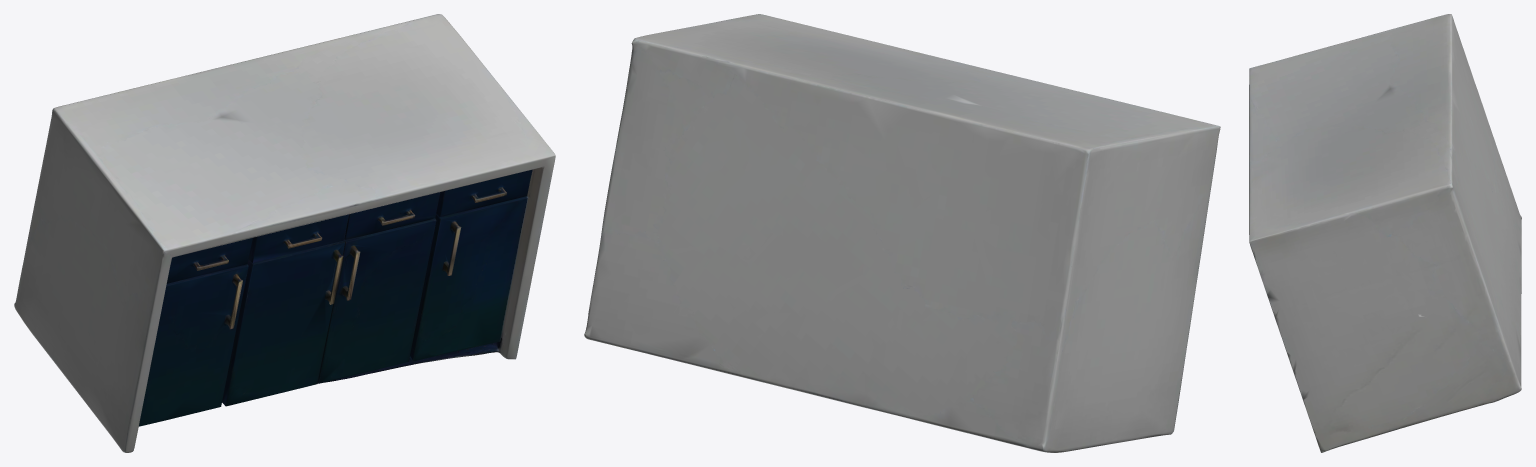
The picture shows the model from 3 angles, left to right: view 1: azimuth 30°, elevation 25°; view 2: azimuth 150°, elevation 25°; view 3: azimuth 270°, elevation 25°; orthographic projection. The views are drawn at different scales.
Visible parts, largest first — view 1: material; view 2: material; view 3: material.
Part boxes in pixels (x1,y1,x2,y2): material: (14, 14, 555, 452); material: (584, 14, 1220, 452); material: (1249, 14, 1521, 452).
Bounding box in the file's own units: 1 × 0.7175 × 0.6646.
Materials: 1 (1 with a texture image).
